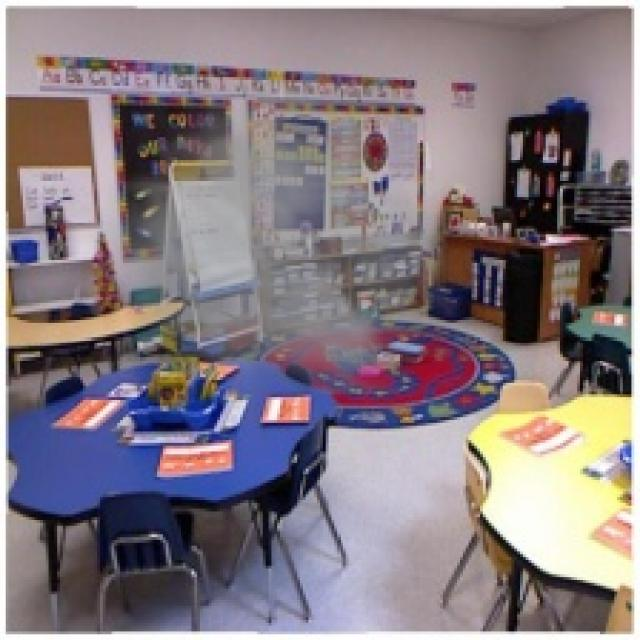smoke: (80, 52, 471, 394)
